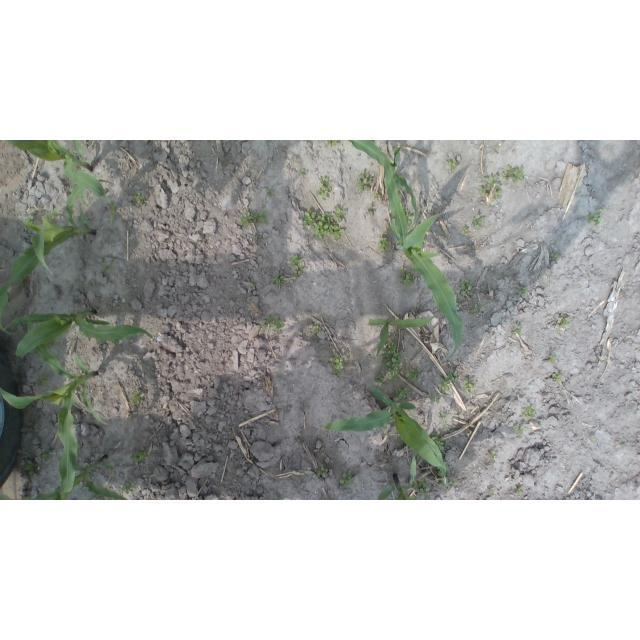Maize: (0, 320, 104, 501), (0, 178, 118, 336), (378, 147, 465, 360), (323, 386, 449, 487), (0, 140, 116, 228), (0, 309, 152, 359), (346, 141, 420, 228), (0, 456, 132, 501), (367, 315, 441, 354), (376, 452, 417, 500)
Weeds: (302, 210, 344, 241), (382, 341, 404, 382), (478, 175, 503, 202), (439, 367, 459, 392), (501, 165, 523, 184), (398, 265, 415, 289), (240, 211, 269, 225), (316, 176, 332, 201), (262, 313, 284, 331), (329, 355, 346, 377), (357, 170, 373, 192), (588, 206, 605, 226), (413, 478, 429, 499), (430, 429, 445, 451), (458, 278, 474, 298), (20, 416, 39, 432), (520, 402, 537, 419), (25, 460, 42, 477), (119, 478, 137, 494), (132, 446, 149, 462), (338, 471, 354, 488), (406, 365, 422, 381), (401, 206, 413, 226), (394, 385, 409, 401), (316, 464, 332, 479), (44, 209, 60, 223), (444, 157, 458, 173), (378, 236, 391, 253), (133, 192, 147, 207), (332, 207, 346, 222), (271, 272, 285, 287), (375, 371, 387, 388), (131, 391, 145, 405), (289, 255, 302, 270), (38, 449, 53, 462), (472, 215, 484, 230), (36, 374, 52, 385), (512, 425, 525, 438), (437, 464, 450, 476), (430, 392, 442, 404), (512, 324, 524, 336), (557, 317, 569, 329), (365, 205, 376, 218), (463, 380, 474, 393), (487, 450, 498, 463), (438, 411, 448, 425), (100, 261, 110, 274), (294, 265, 305, 276), (549, 251, 559, 263), (24, 215, 35, 225), (552, 373, 562, 384), (518, 285, 528, 296), (264, 188, 276, 197), (383, 226, 393, 235), (449, 478, 459, 487), (374, 191, 382, 202), (516, 485, 524, 496), (325, 140, 339, 146), (475, 301, 484, 310), (313, 324, 322, 332), (549, 354, 558, 362), (254, 235, 264, 242), (440, 477, 447, 487), (461, 227, 470, 234), (251, 278, 258, 287), (110, 258, 118, 265), (300, 169, 307, 176), (489, 487, 497, 493), (469, 309, 477, 315), (74, 164, 80, 171), (589, 435, 595, 442), (274, 497, 282, 500), (445, 427, 450, 431)
